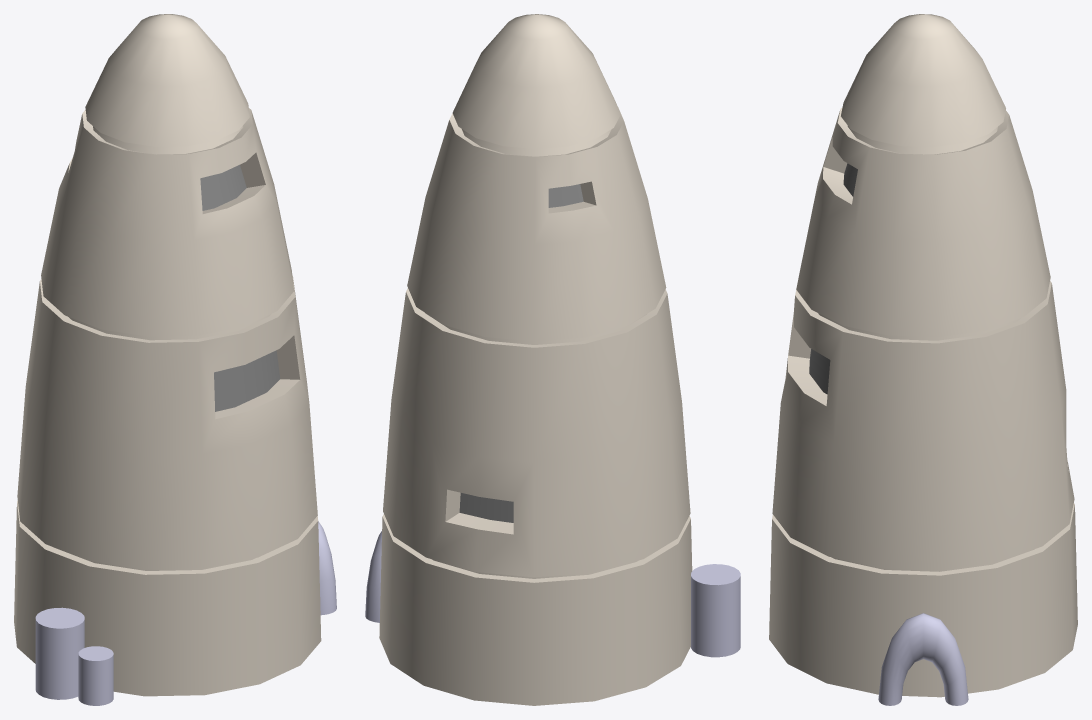
Rendered from house1.fbx.
3 views of the same model, side by side, from view 1: azimuth 30°, elevation 25°; view 2: azimuth 150°, elevation 25°; view 3: azimuth 270°, elevation 25° (orthographic).
Parts seen in each view (by area): view 1: house1; view 2: house1; view 3: house1.
Boxes of the visible parts, box(x1,y1,x2,y2) form: house1: box(14, 14, 336, 705); house1: box(365, 14, 740, 705); house1: box(769, 14, 1077, 705).
Size of the model in its own units: 2.04 by 3.81 by 1.73.
